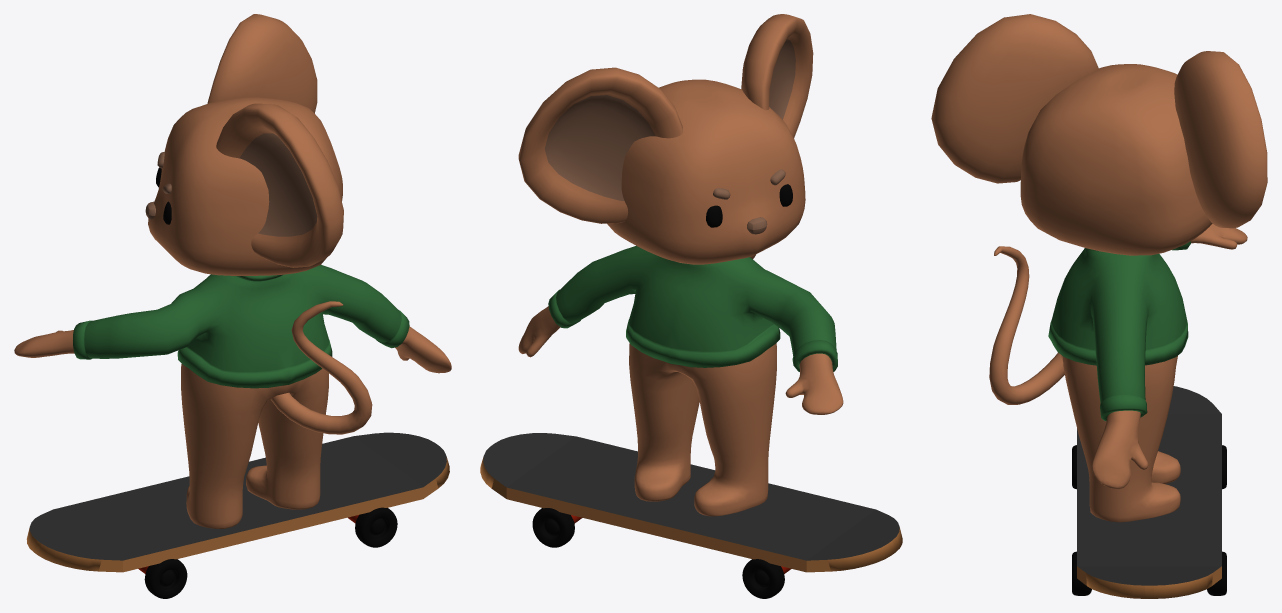
Rendered from snackman_green.glb.
3 views of the same model, side by side, from view 1: azimuth 30°, elevation 25°; view 2: azimuth 150°, elevation 25°; view 3: azimuth 270°, elevation 25° (orthographic). The views are drawn at different scales.
Parts seen in each view (by area): view 1: nose, skateboard_bord.002, skateboard_wheels.002; view 2: nose, skateboard_bord.002, skateboard_wheels.002; view 3: nose, skateboard_bord.002, skateboard_wheels.002.
Boxes of the visible parts, x1,y1,x2,y2 form: nose: (14,14,451,528); skateboard_bord.002: (26,432,449,572); skateboard_wheels.002: (144,507,397,598); nose: (518,14,843,516); skateboard_bord.002: (480,433,902,572); skateboard_wheels.002: (532,508,784,598); nose: (931,14,1267,522); skateboard_bord.002: (1077,386,1221,598); skateboard_wheels.002: (1072,445,1226,595).
Bounding box in the file's own units: 6.69 × 7.75 × 4.63.
